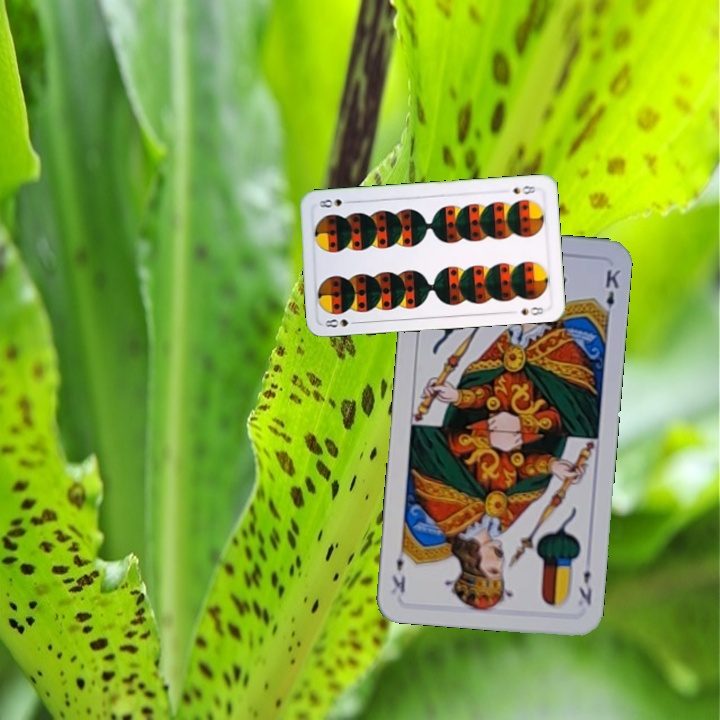EK: (575, 566, 595, 607)
S8: (321, 315, 361, 330), (508, 181, 538, 197)
